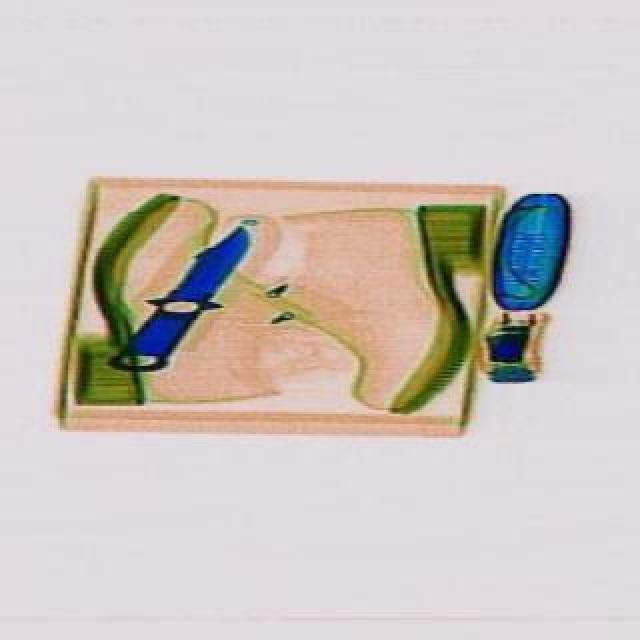knife: (92, 210, 264, 392)
